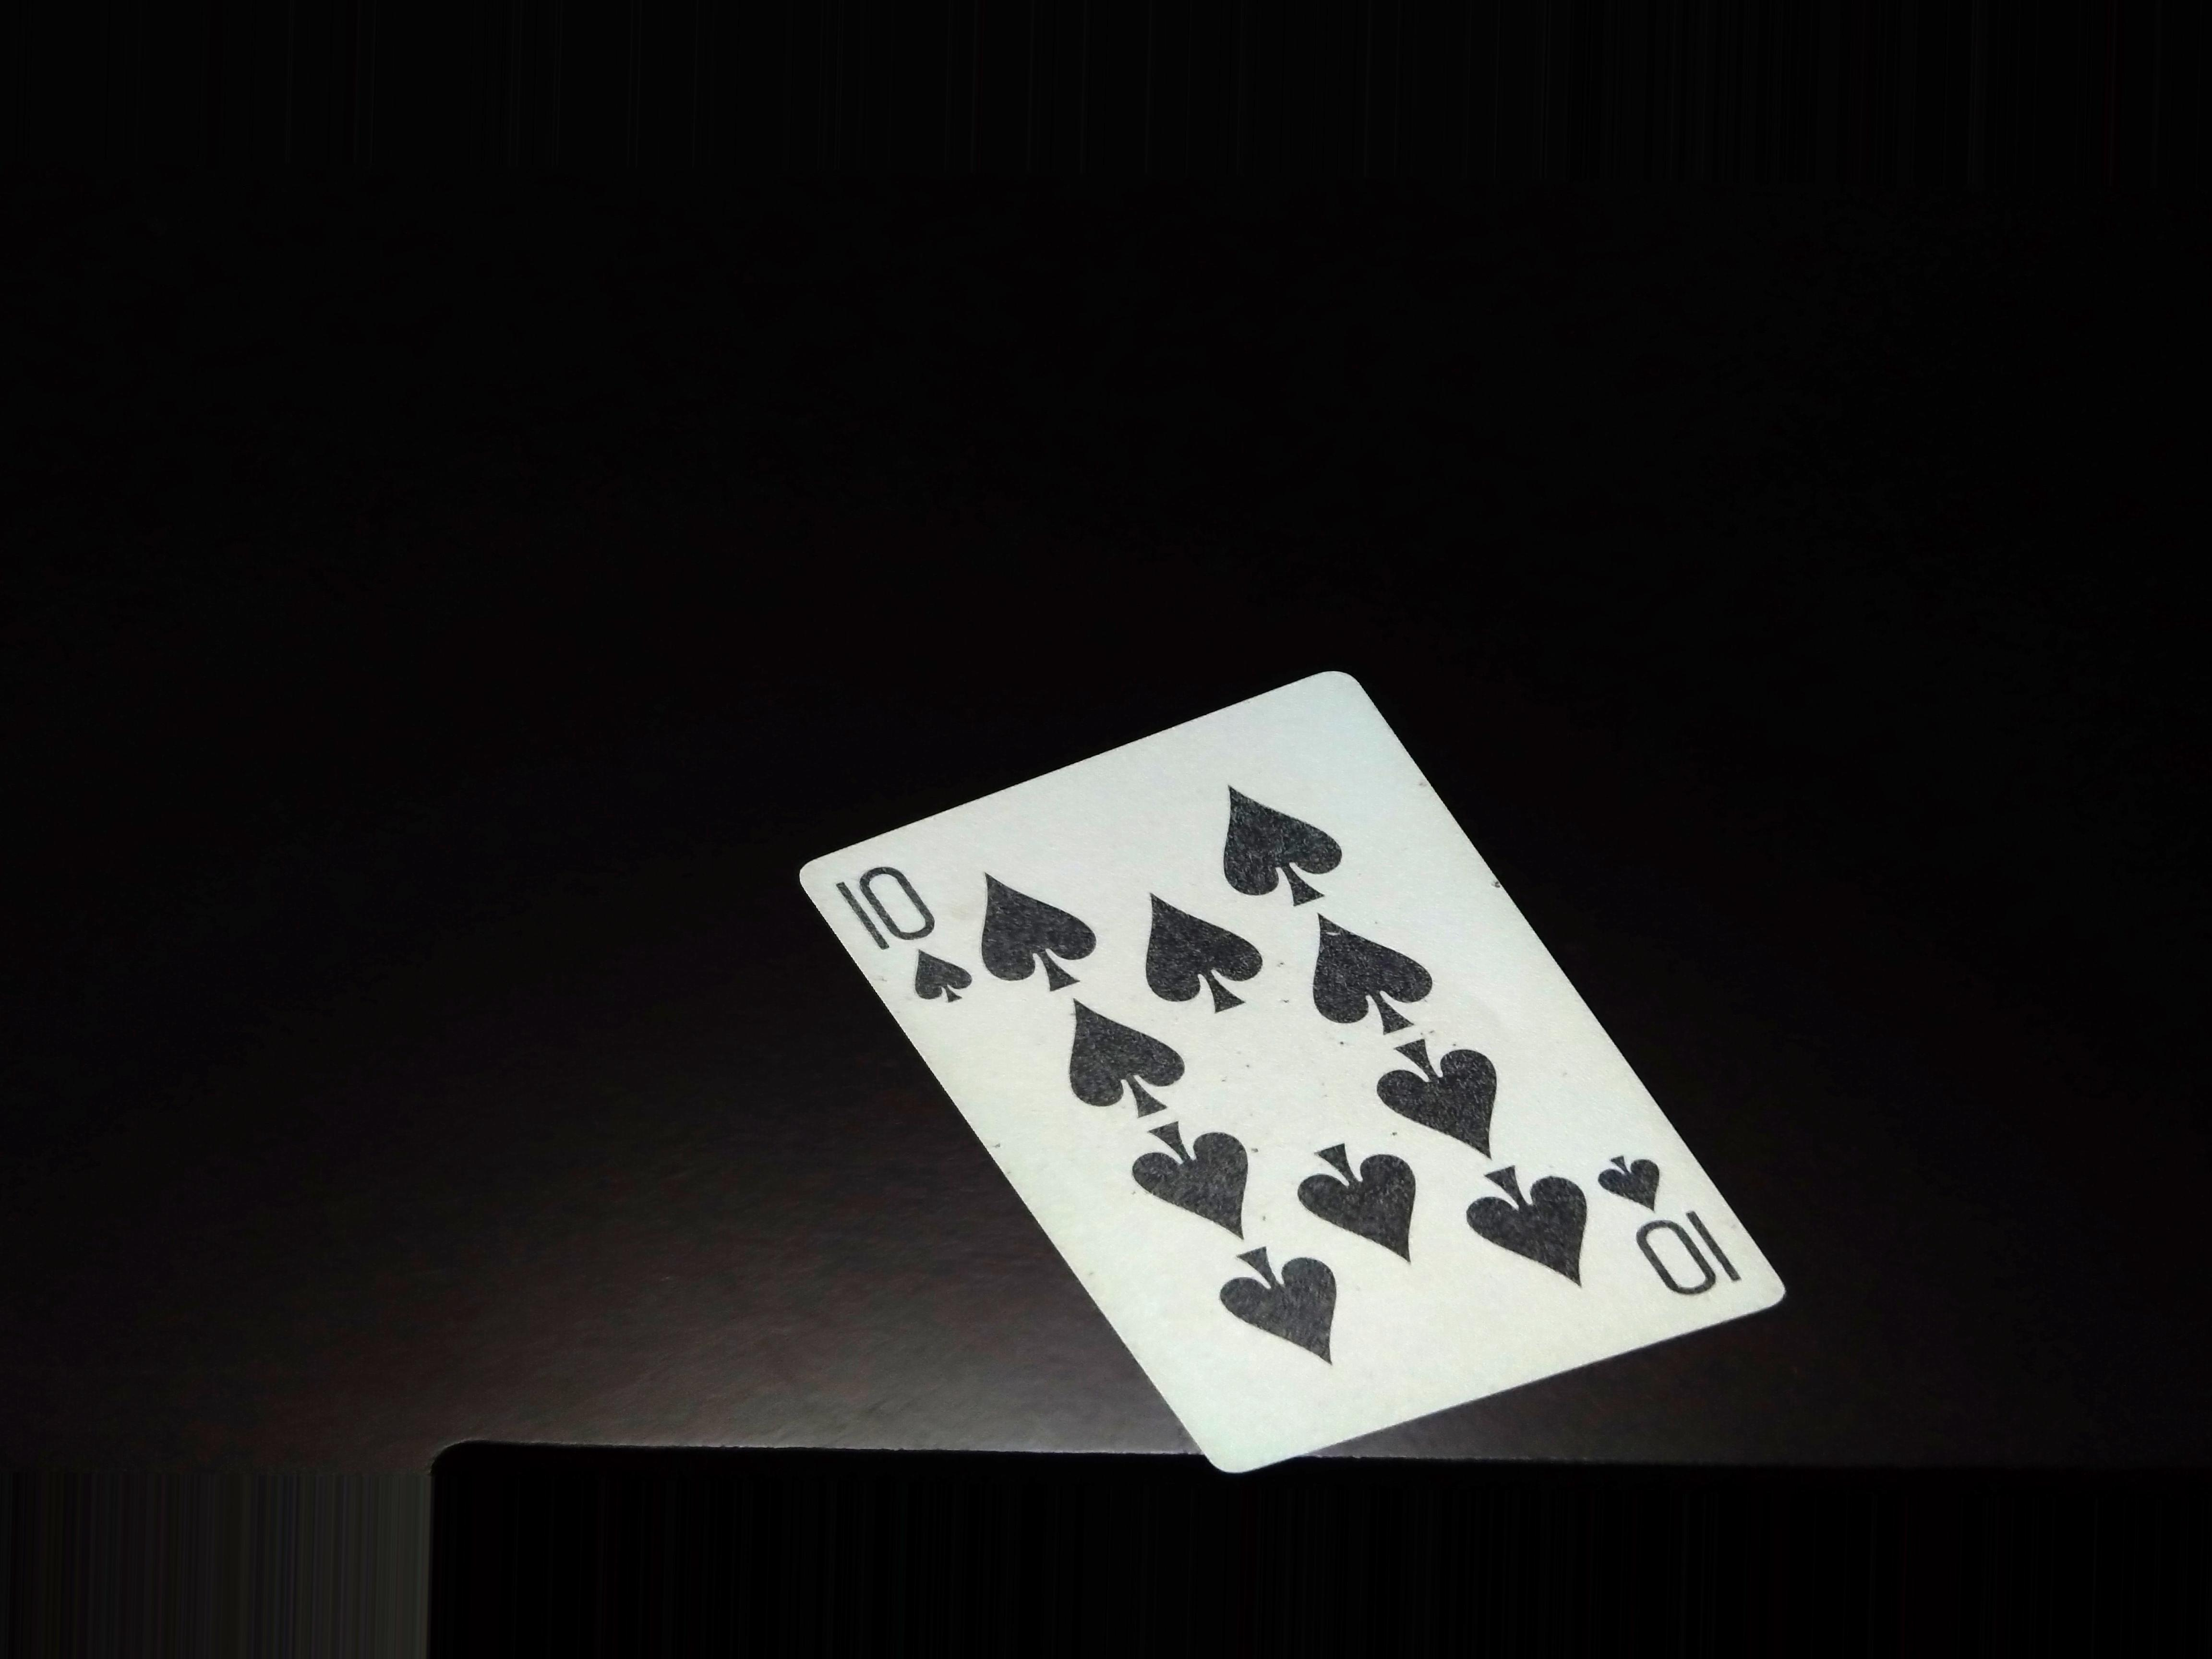10S: (822, 857, 993, 1025)
